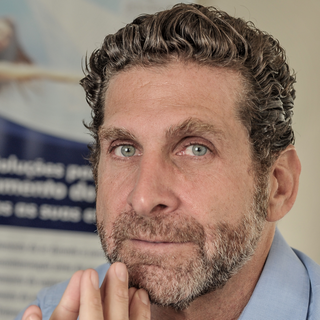eye: (171, 138, 220, 163), (104, 138, 145, 163)
